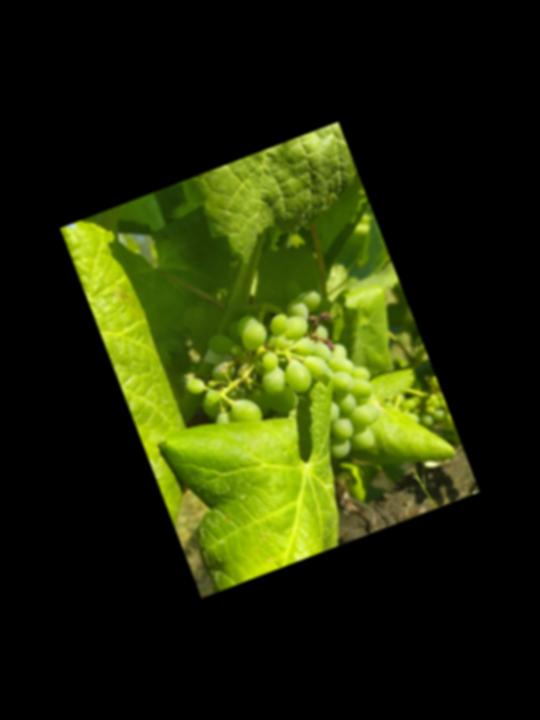grape: (161, 264, 397, 505)
